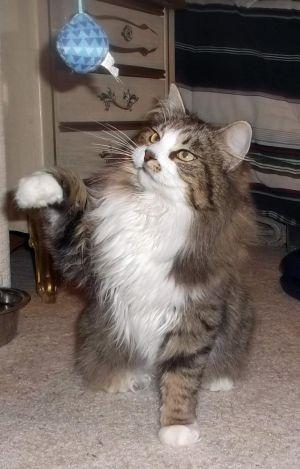ragdoll: (120, 76, 261, 213)
